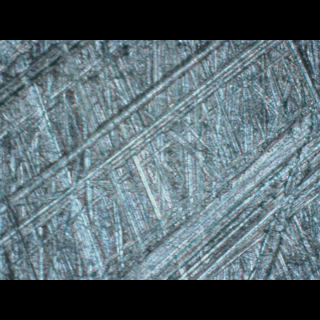d: (0, 40, 318, 279)
